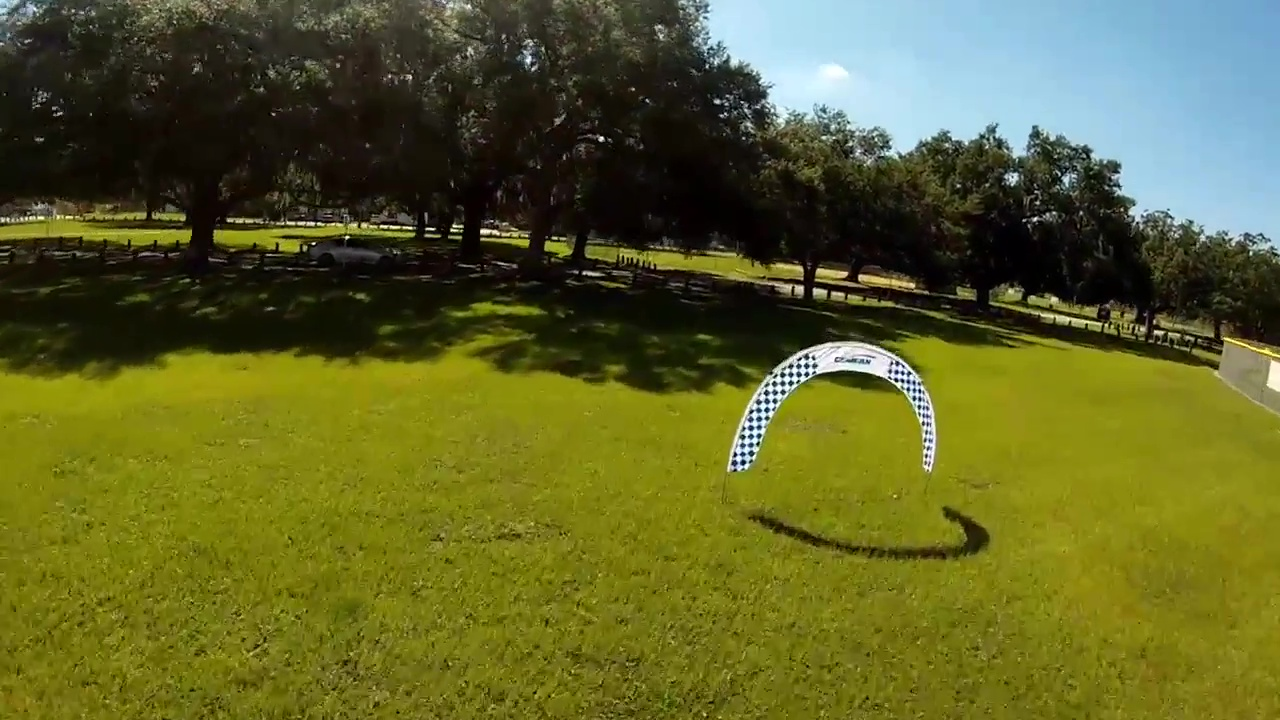gate: (728, 340, 939, 479)
